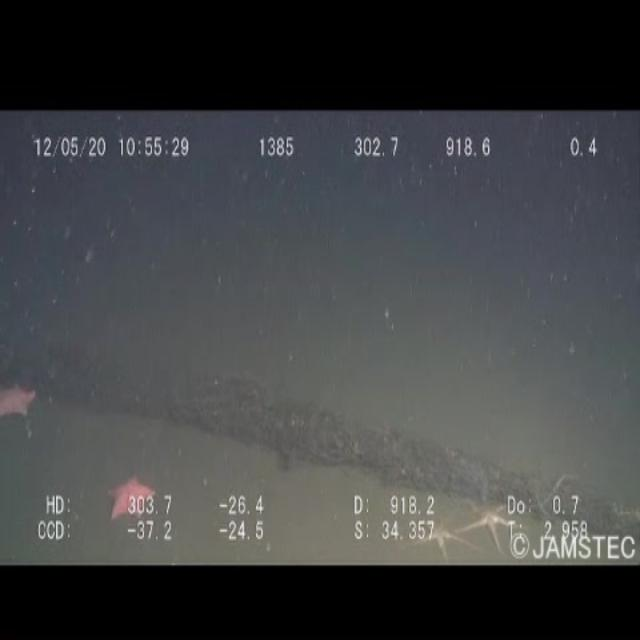Rope: (0, 290, 640, 554)
